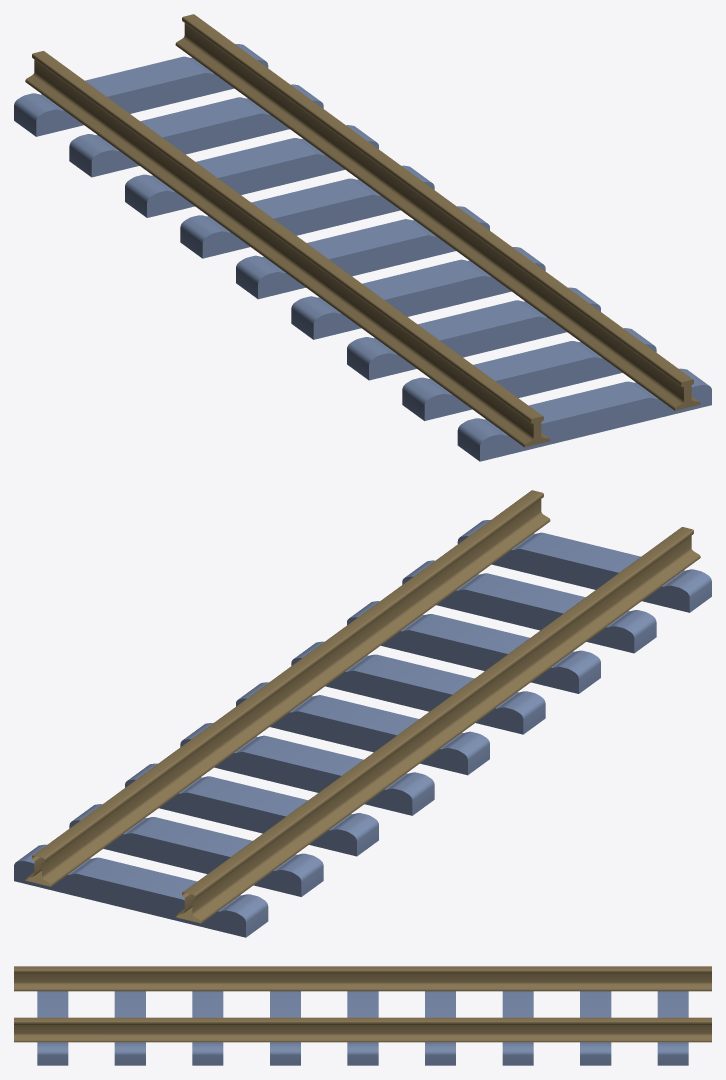
The model's file is Rails A.fbx.
3 renders of one model, top to bottom at view 1: azimuth 30°, elevation 25°; view 2: azimuth 150°, elevation 25°; view 3: azimuth 270°, elevation 25°, orthographic. The views are drawn at different scales.
Visible parts, largest first — view 1: Rails A; view 2: Rails A; view 3: Rails A.
Boxes of the visible parts, x1=… form: Rails A: x1=14, y1=14, x2=711, y2=461; Rails A: x1=14, y1=490, x2=711, y2=937; Rails A: x1=14, y1=966, x2=711, y2=1065.
Size of the model in its own units: 341 by 65.15 by 1270.
